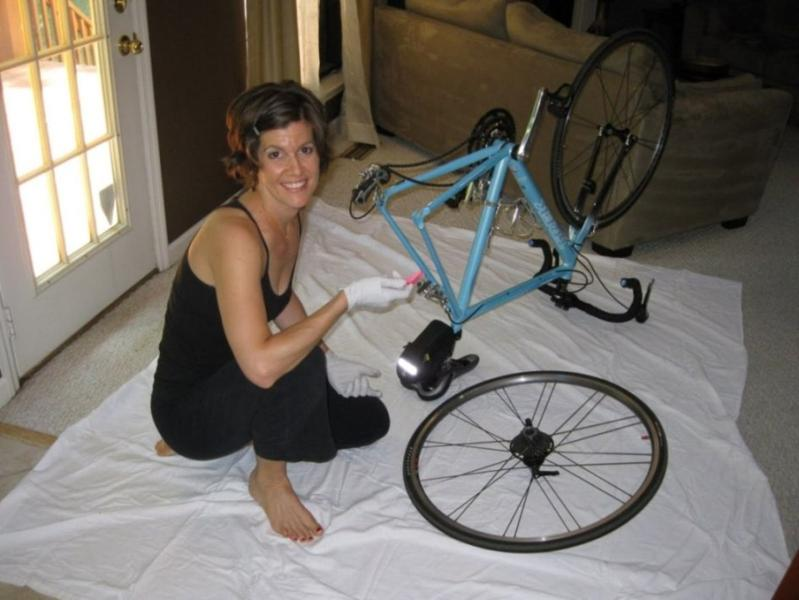person: (151, 80, 416, 545)
